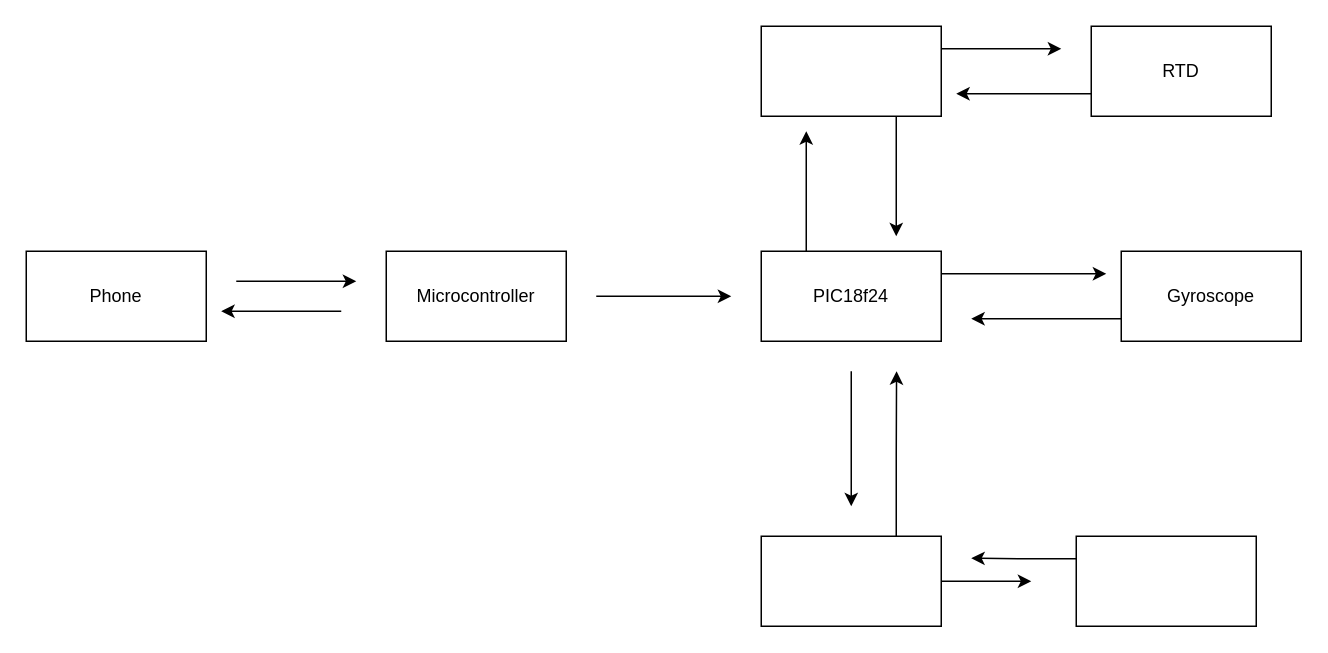
Image size: 1328x653. Some labels were removed from this diagram. Each missing label, with the centre of its shape:
"Motor" belongs at (1165,580).
"Motor Controller" belongs at (850,580).
"Op Amp" belongs at (850,70).
